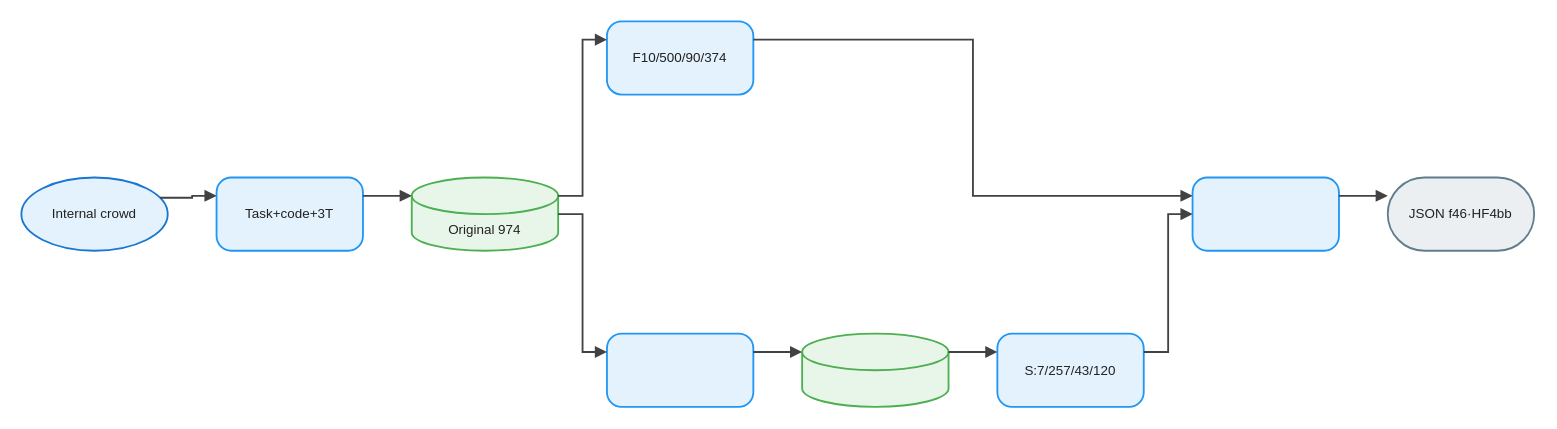
Some shapes in this 1557 by 429 pixel diagram are drawn without their labels. The shapes that lost their labels are listed below. From the top down, each one's centre as x and y in pixels, then its label:
At (1265,213): "Py3.6 tests OK".
At (679,369): "Edit·prune·QC".
At (875,369): "P426·R427".
